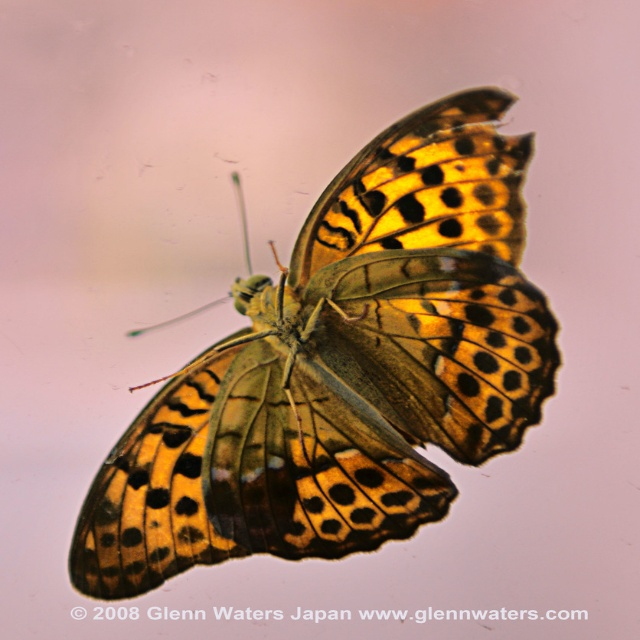Butterfly: (65, 83, 564, 600)
